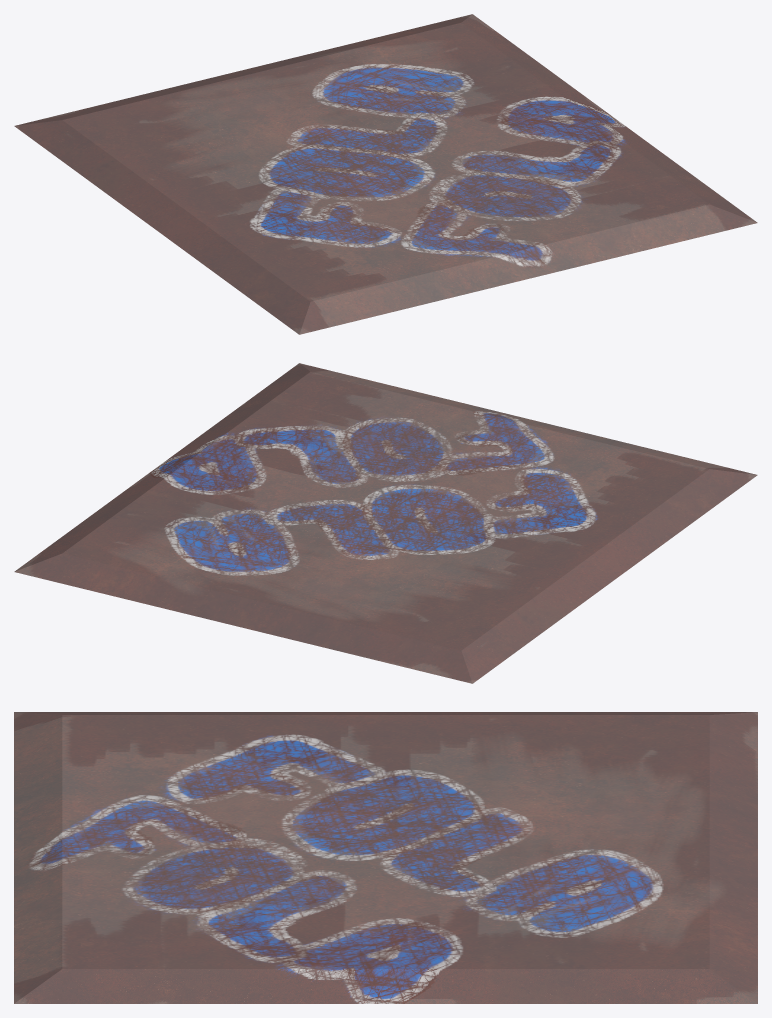
Rendered from Capo_1 (1).glb.
3 views of the same model, one above another, from view 1: azimuth 30°, elevation 25°; view 2: azimuth 150°, elevation 25°; view 3: azimuth 270°, elevation 25° (orthographic). The views are drawn at different scales.
Visible parts, largest first — view 1: Plane.006; view 2: Plane.006; view 3: Plane.006.
Boxes of the visible parts, bbox=[...] form: Plane.006: bbox=[14, 14, 757, 334]; Plane.006: bbox=[14, 363, 757, 683]; Plane.006: bbox=[14, 712, 757, 1003].
Size of the model in its own units: 2.92 by 0.0747 by 3.15.
Materials: 1 (1 with a texture image).
